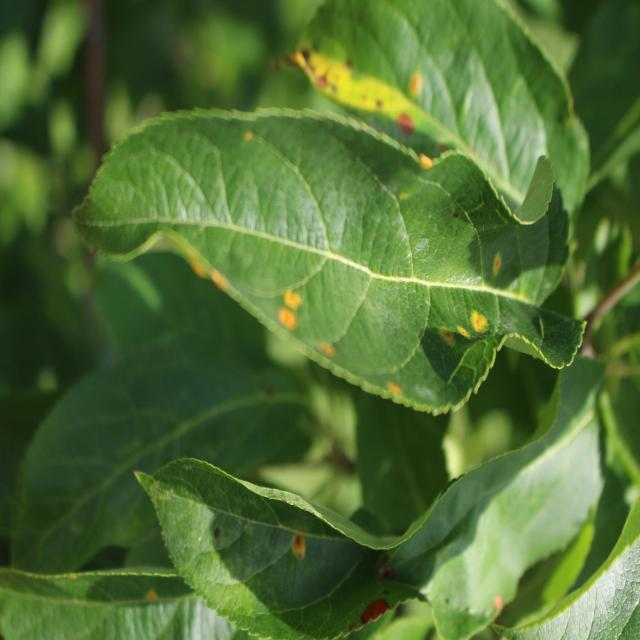Rust: (273, 282, 306, 340), (281, 516, 313, 572), (480, 244, 520, 284), (466, 296, 492, 351), (378, 371, 407, 416)
